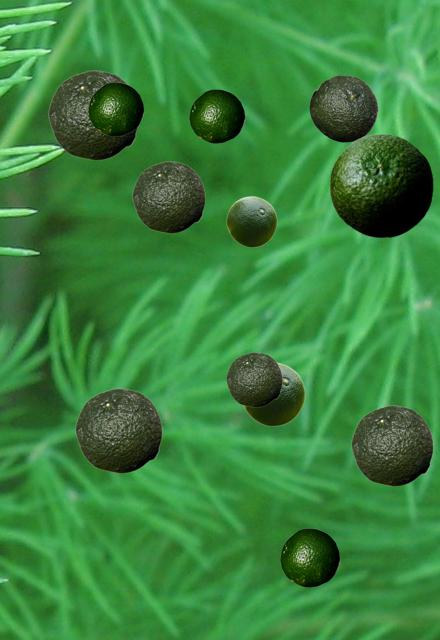calamansi: (329, 133, 432, 237), (48, 70, 138, 159), (75, 388, 161, 472), (351, 405, 432, 485), (132, 161, 204, 232), (309, 75, 377, 141), (243, 362, 304, 425), (280, 528, 339, 586), (226, 352, 281, 406), (88, 82, 143, 135), (189, 89, 244, 142), (226, 196, 276, 246)
